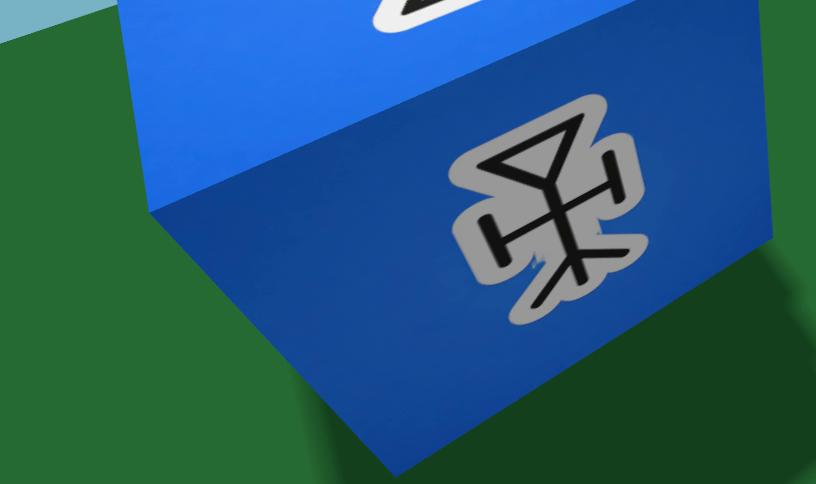KFS_REAL: (117, 0, 770, 471), (451, 95, 647, 324), (373, 0, 483, 32)
